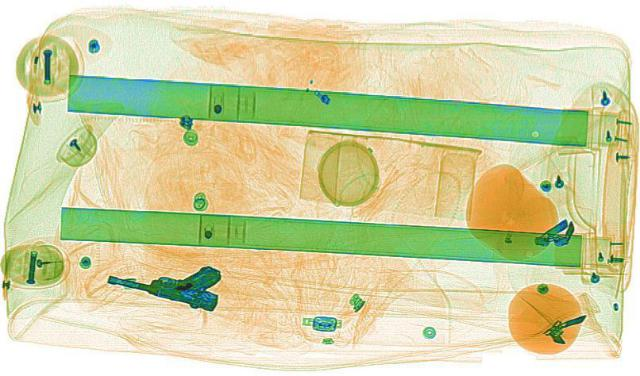Gun: (96, 257, 230, 310)
